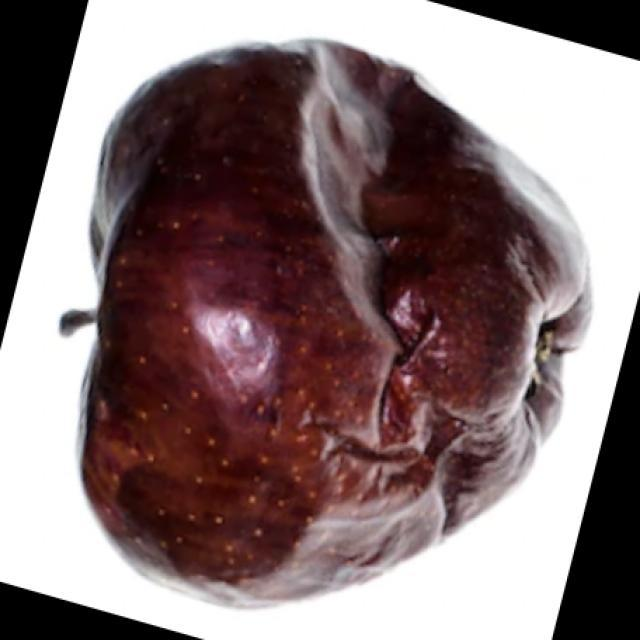Rotten: (107, 32, 575, 618)
